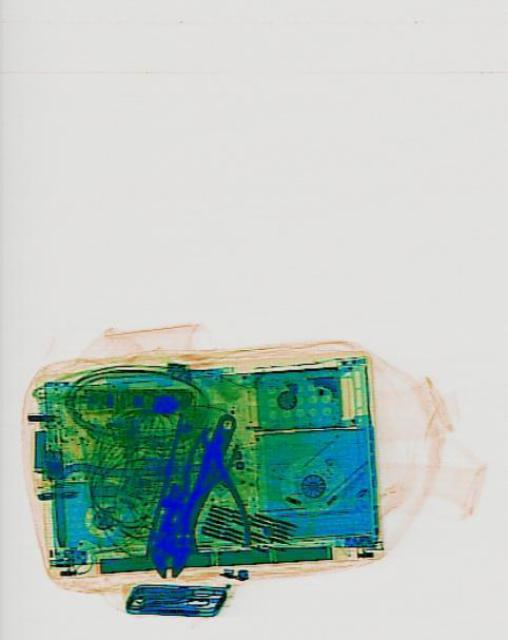Pliers: (179, 424, 250, 554)
Wrench: (139, 404, 248, 586)
